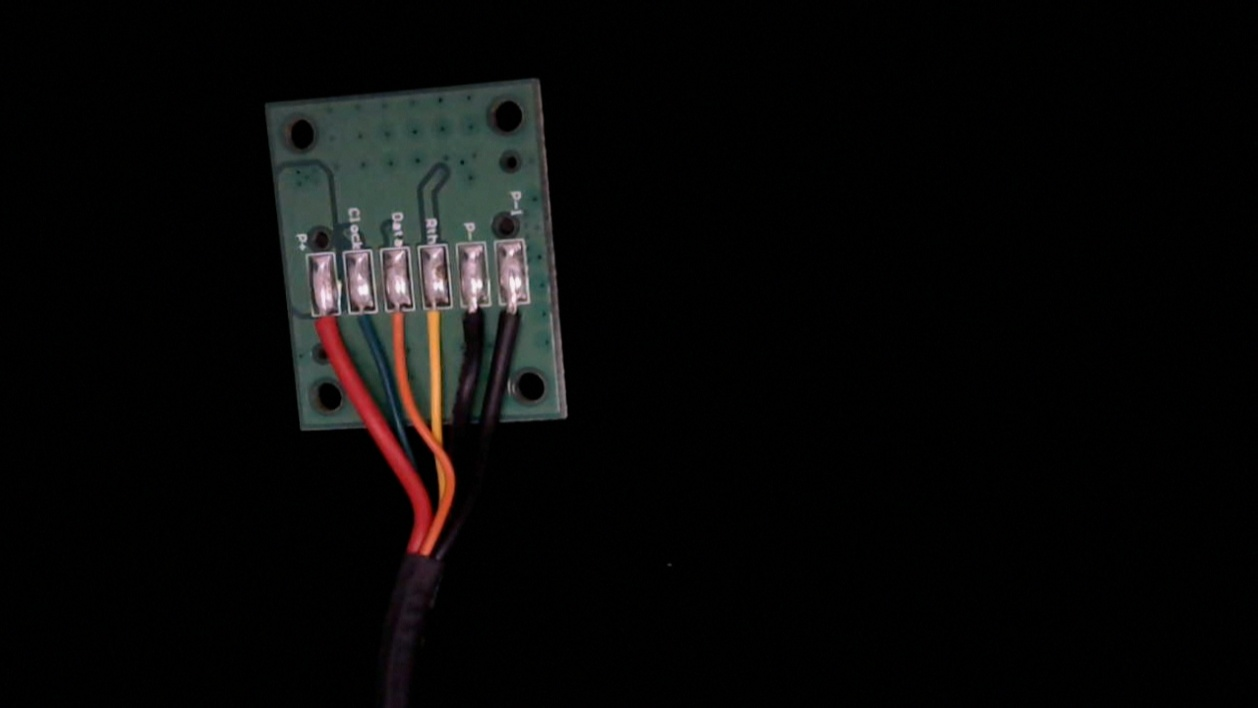Black: (460, 290, 489, 354)
Black1: (498, 290, 530, 352)
Green: (346, 299, 384, 345)
Orange: (383, 296, 416, 349)
Red: (306, 301, 346, 344)
Yellow: (422, 292, 453, 349)
